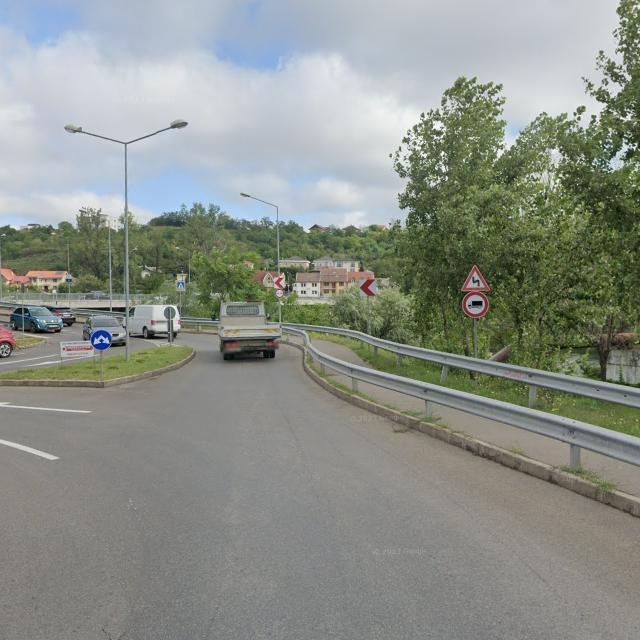info_crosswalk: (176, 281, 186, 292)
prio_give_way: (275, 289, 284, 299)
